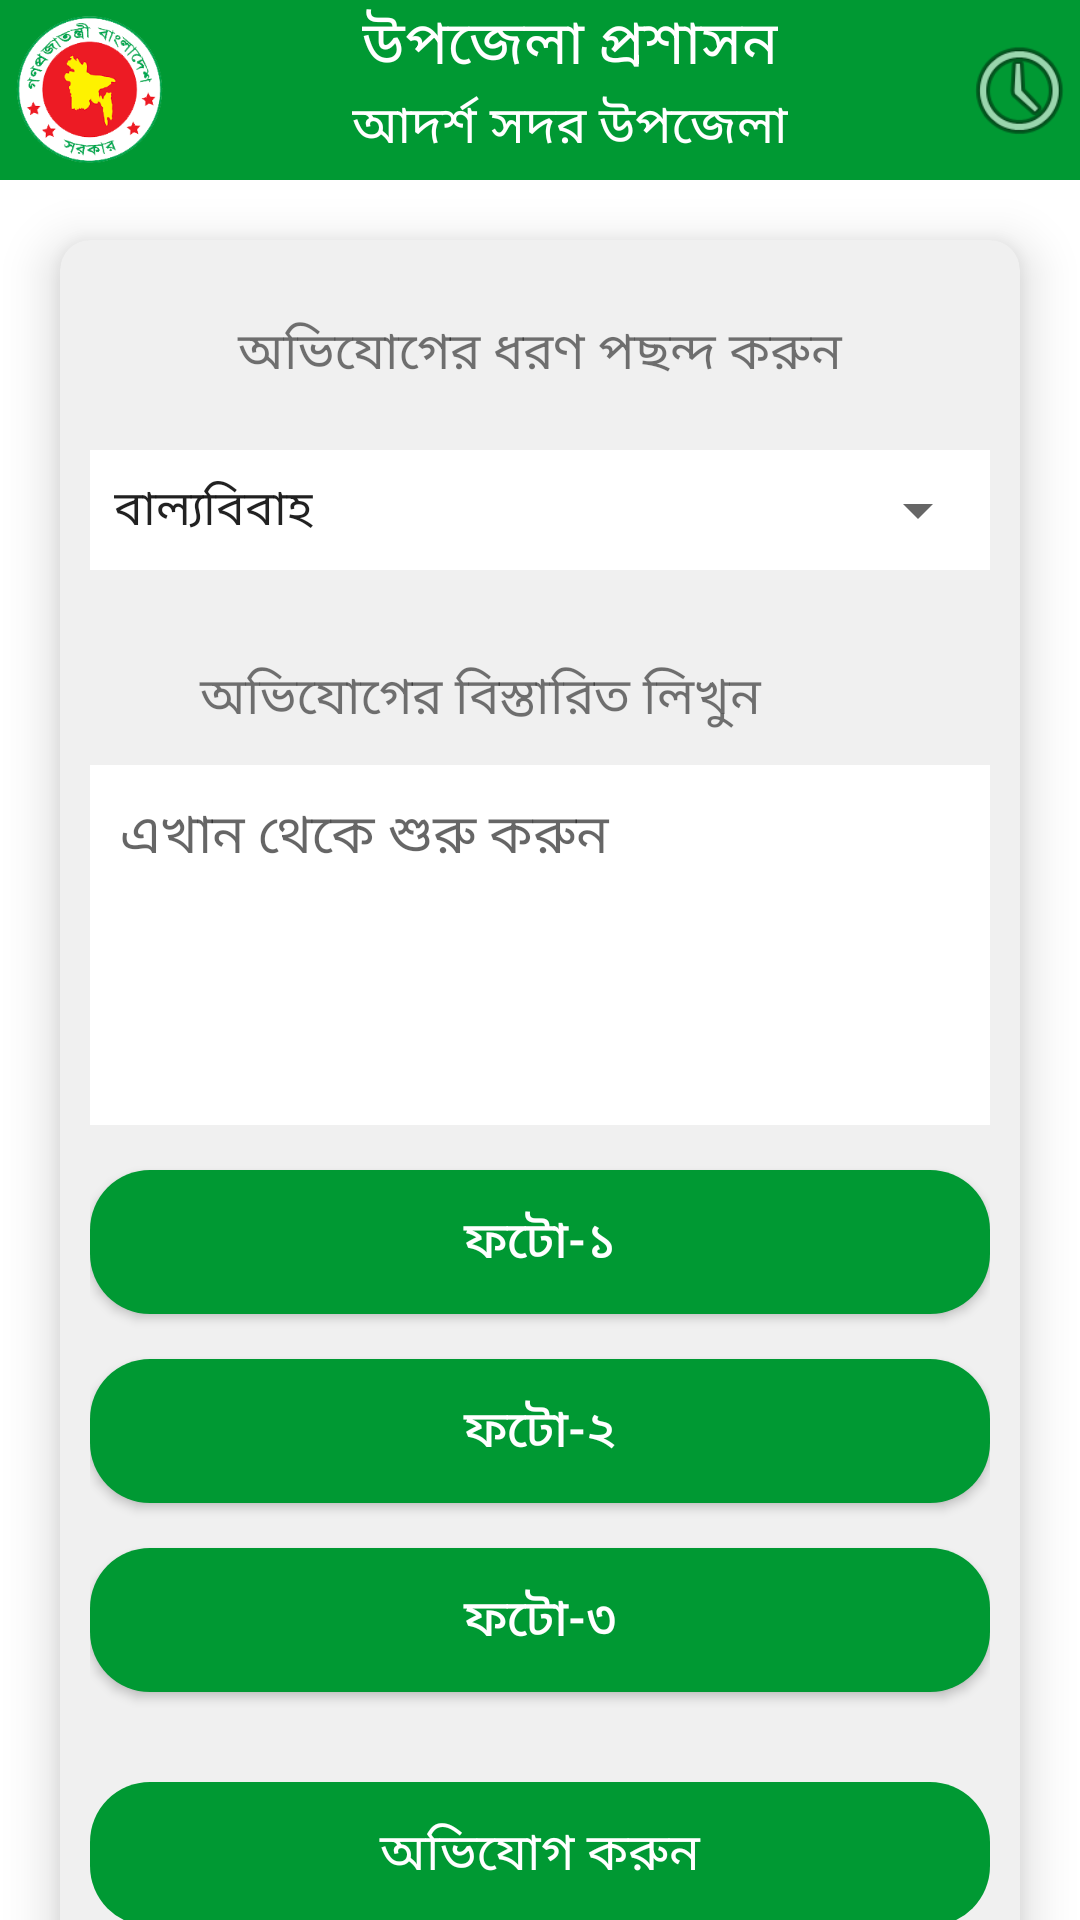

Screen size 1080px x 1920px. Icon name, then its center in pixels as point (x, y):
recent history: point (1019, 90)
